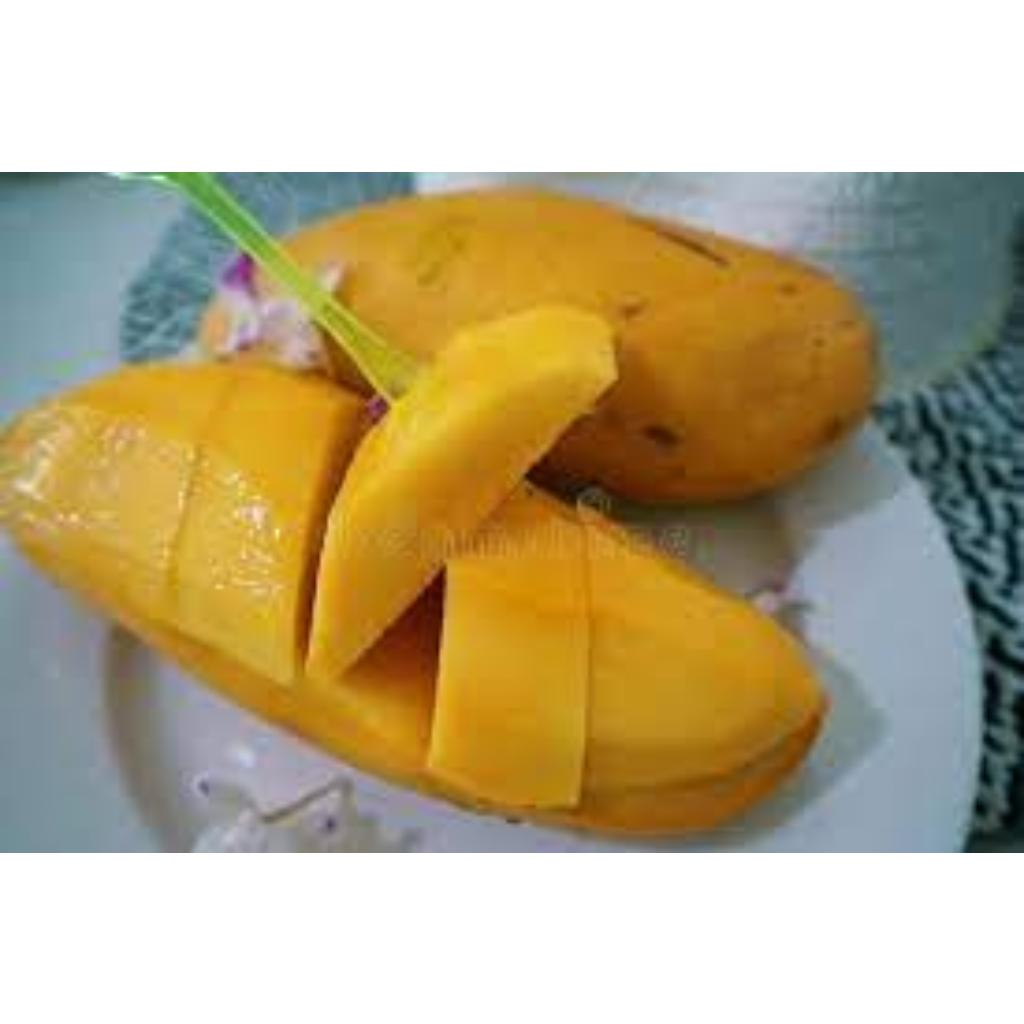mango: (0, 339, 830, 838), (195, 185, 890, 496), (309, 305, 622, 681)
